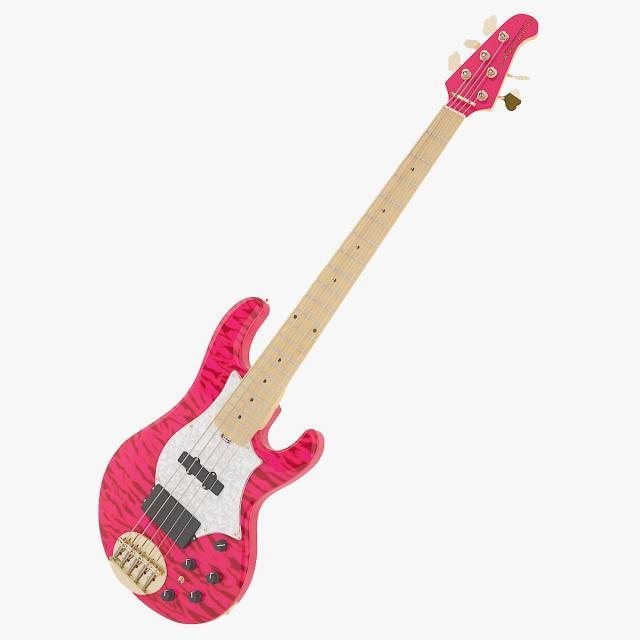bass: (99, 14, 537, 622)
